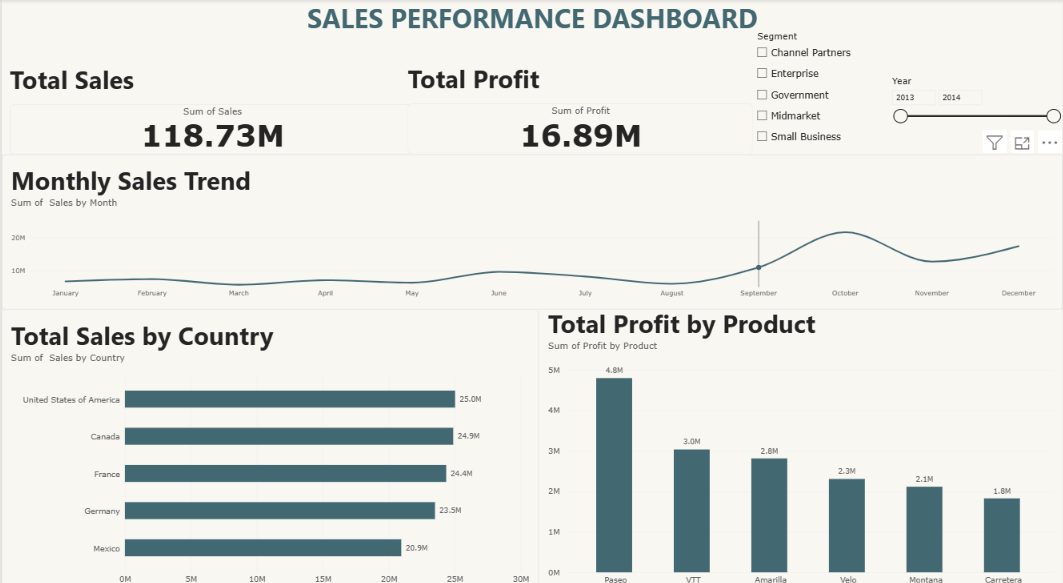

The dashboard page shown, as its layout file describes it:
{"tool":"powerbi","page":{"name":"Page 1","canvas":[1920,1080],"ordinal":0},"visuals":[{"type":"clusteredBarChart","title":"Total Sales by Country","fields":{"Category":["financials.Country"],"Y":["Sum(financials. Sales)"]},"box":[0,561.3,971.2,519.8],"z":0},{"type":"clusteredColumnChart","title":"Total Profit by Product","fields":{"Category":["financials.Product"],"Y":["Sum(financials.Profit)"]},"box":[971.2,539.3,949.3,541.7],"z":1000},{"type":"cardVisual","title":"Total Sales","fields":{"Data":["Sum(financials. Sales)"]},"box":[14.5,114,732.9,166.5],"z":2000},{"type":"cardVisual","title":"Total Profit","fields":{"Data":["Sum(financials.Profit)"]},"box":[734.7,112.2,624.3,168.3],"z":3000},{"type":"slicer","fields":{"Values":["financials.Year"]},"box":[1603.4,137.5,316.7,143],"z":4000},{"type":"slicer","fields":{"Values":["financials.Segment"]},"box":[1359.1,56.1,244,224.5],"z":5000},{"type":"textbox","box":[0,0,1920.4,88.5],"z":6000},{"type":"lineChart","title":"Monthly Sales Trend","fields":{"Category":["financials.Date.Variation.Date Hierarchy.Month"],"Y":["Sum(financials. Sales)"]},"box":[0,280.5,1920.1,280.5],"z":7000}]}

Visuals, with their boxes in screenshot pixels (x1, y1, x2, y2), scaled from the page's 1920x1080 canvas onto the 1063x583 screenshot:
"Total Sales by Country" clusteredBarChart: BBox(0, 303, 538, 582)
"Total Profit by Product" clusteredColumnChart: BBox(538, 291, 1062, 582)
"Total Sales" cardVisual: BBox(8, 62, 414, 151)
"Total Profit" cardVisual: BBox(407, 61, 752, 151)
slicer - financials.Year: BBox(888, 74, 1062, 151)
slicer - financials.Segment: BBox(752, 30, 888, 151)
textbox: BBox(0, 0, 1062, 48)
"Monthly Sales Trend" lineChart: BBox(0, 151, 1062, 303)
